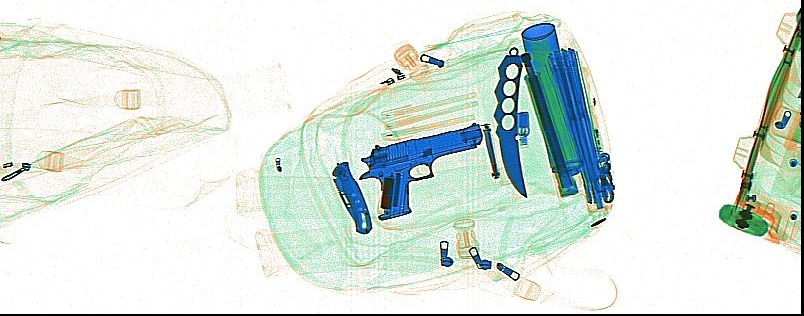knife: (491, 45, 528, 197), (331, 160, 373, 235), (479, 124, 500, 179)
pressure: (520, 20, 584, 178)
